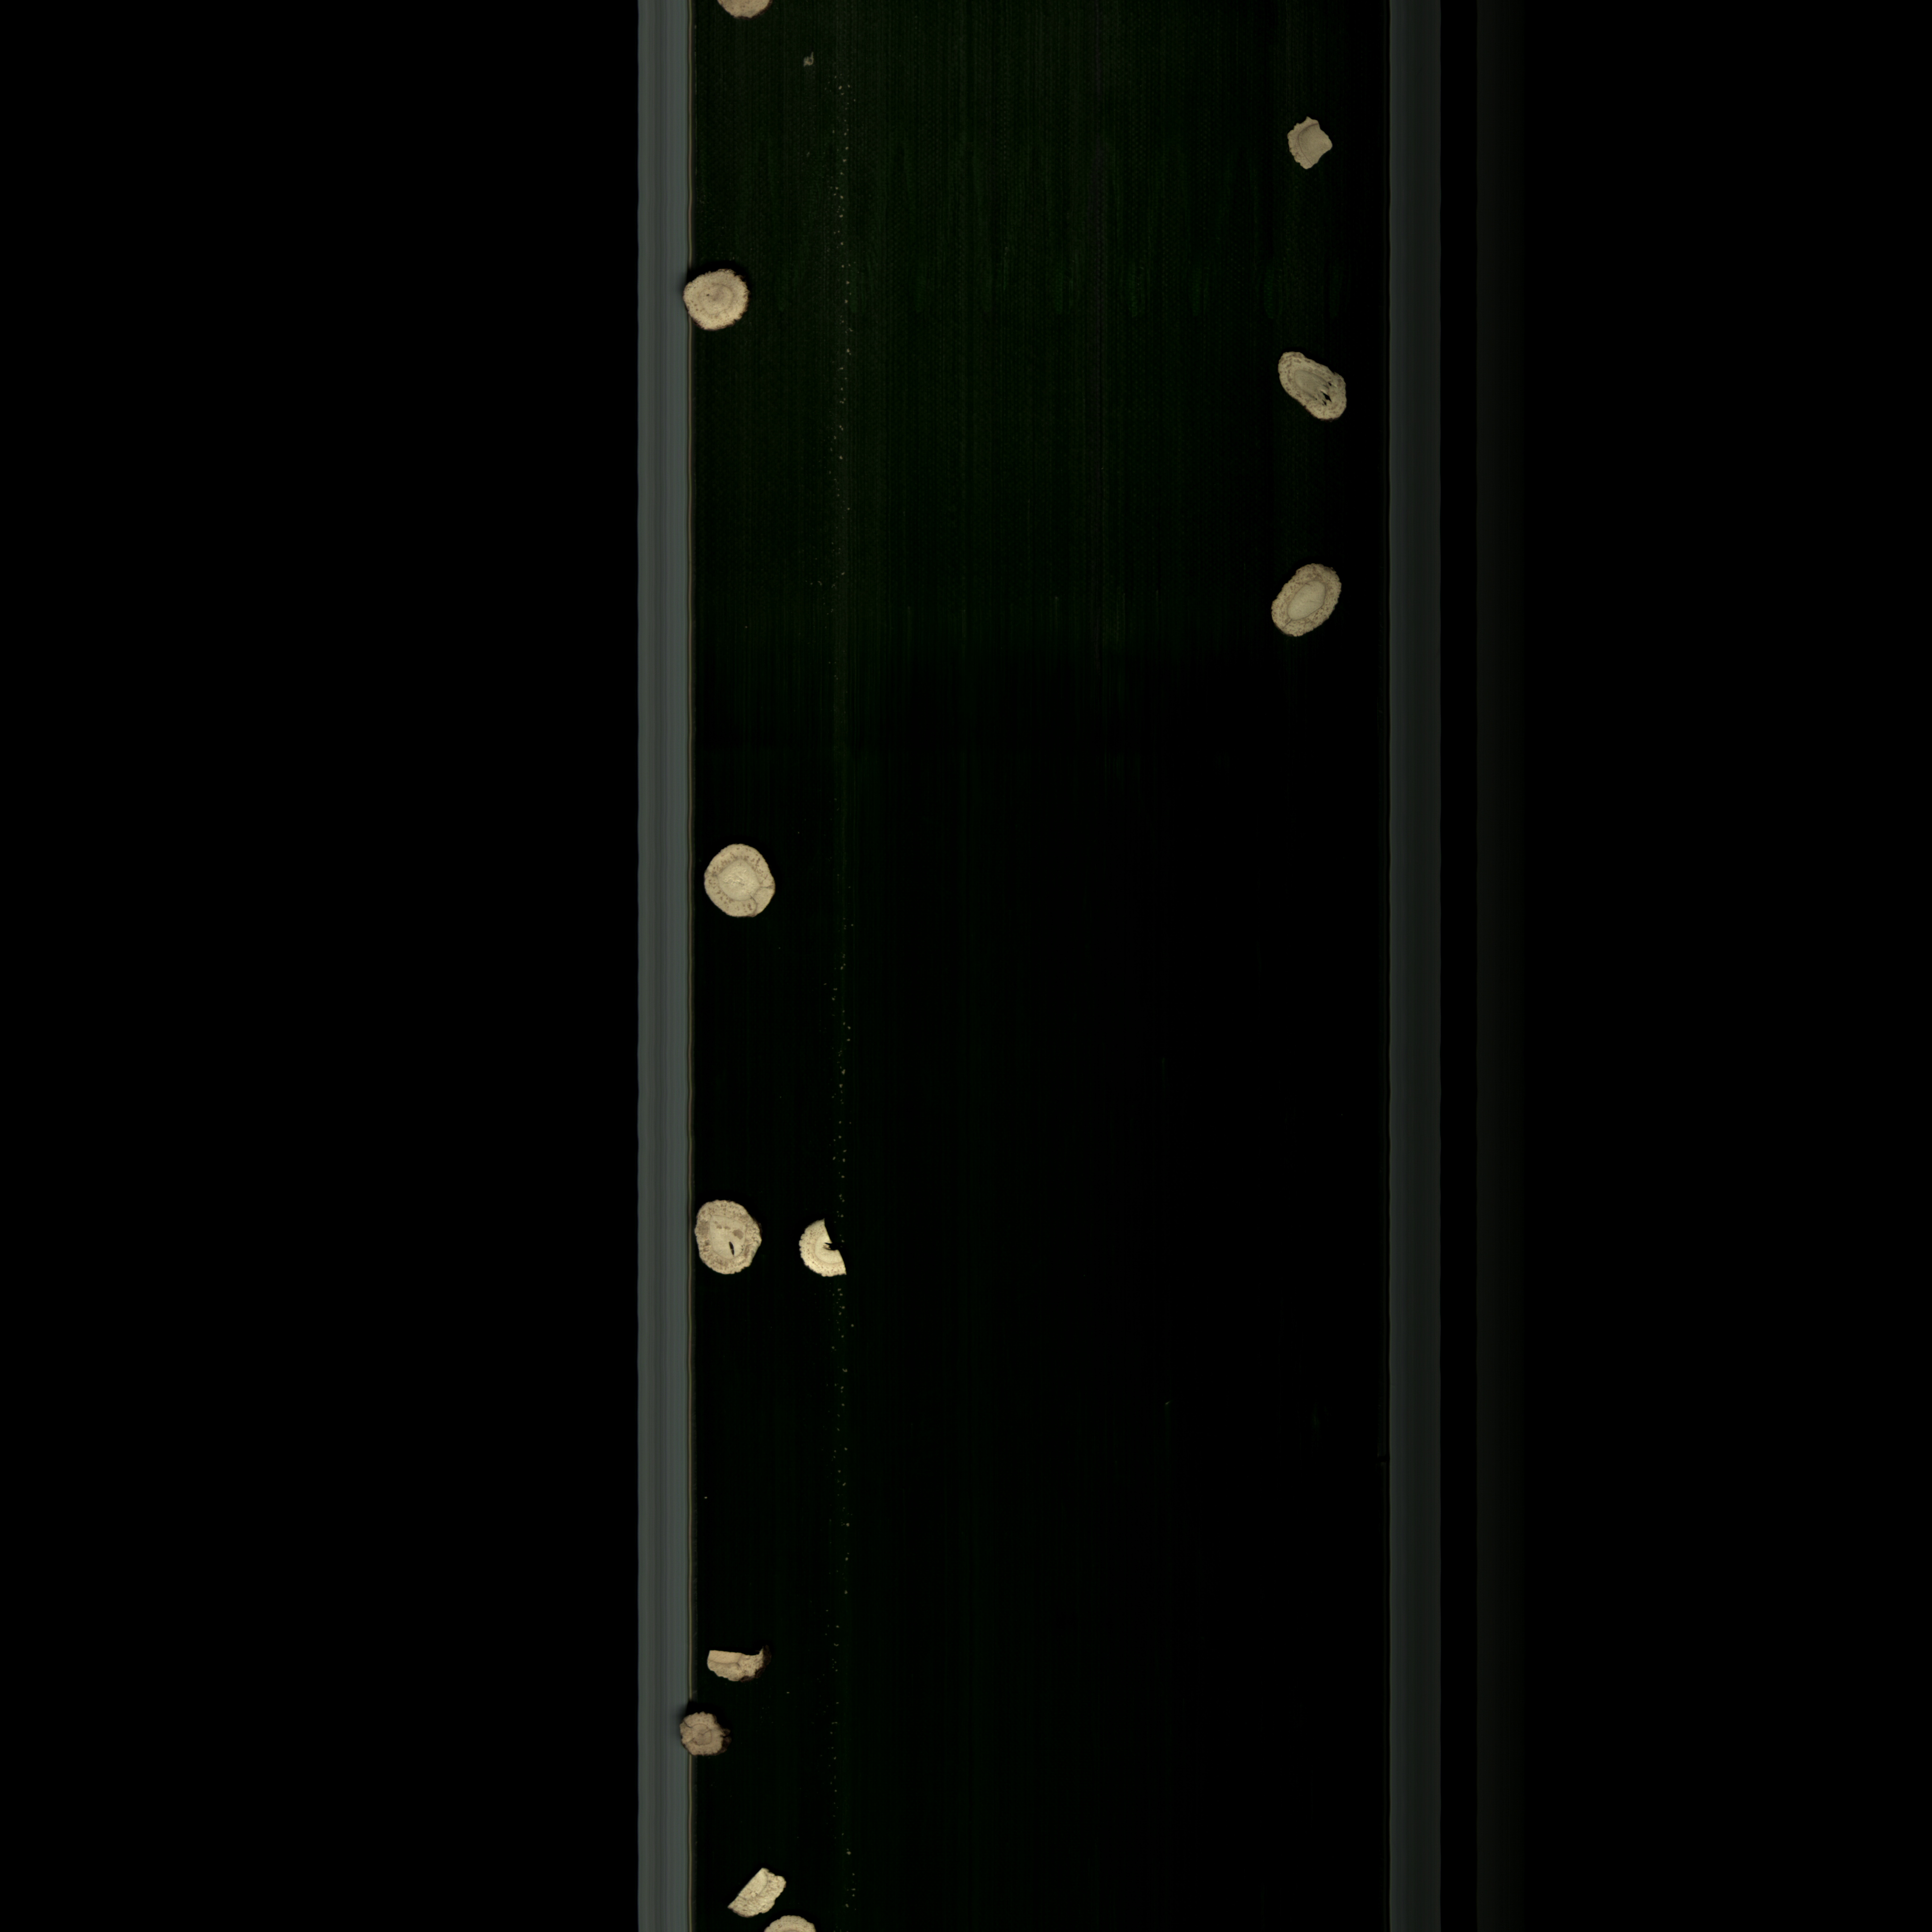debris: (722, 1847, 803, 1923), (786, 1212, 865, 1288), (1274, 106, 1339, 179)
distortion: (1261, 340, 1368, 433), (1261, 548, 1348, 649)
dreg: (697, 1638, 780, 1686)
hole: (692, 1189, 761, 1283)
moldy: (671, 1707, 732, 1767)
